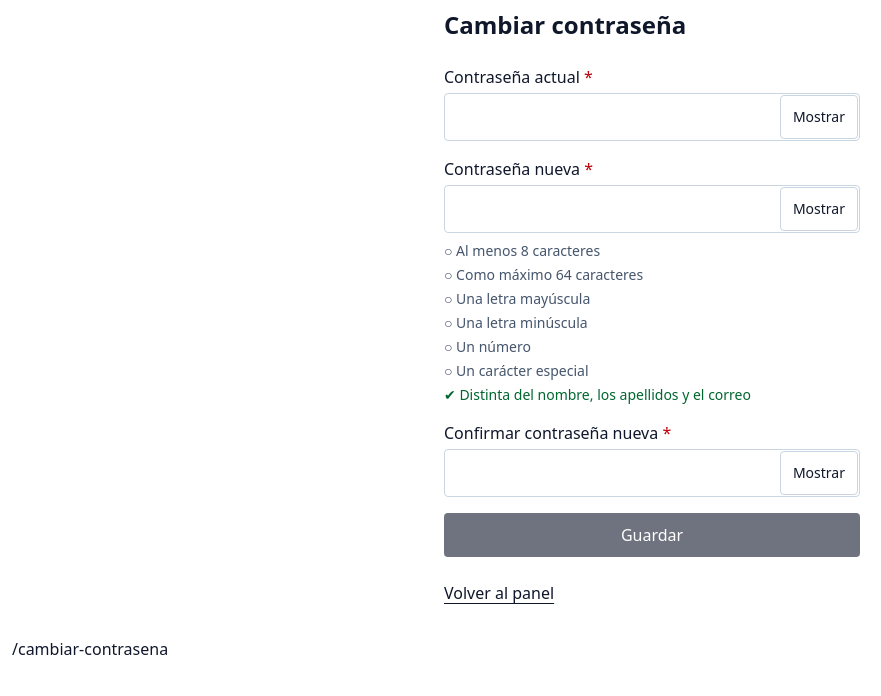
Test: ChangePasswordPage › muestra el requisito incumplido que devuelve el servidor (US7 esc. 3)
Step 1. Type "vieja" into the password field labelled "Contraseña actual *" → (652, 117), box [444,93,860,141]
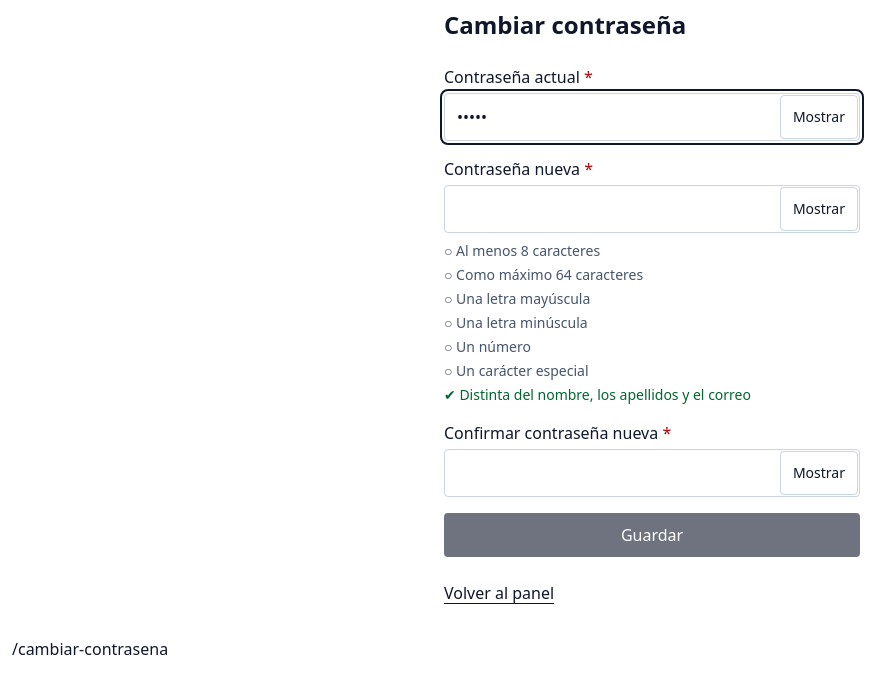
Step 2. Type "Nueva.2026" into the password field labelled "Contraseña nueva *" → (652, 209), box [444,185,860,233]
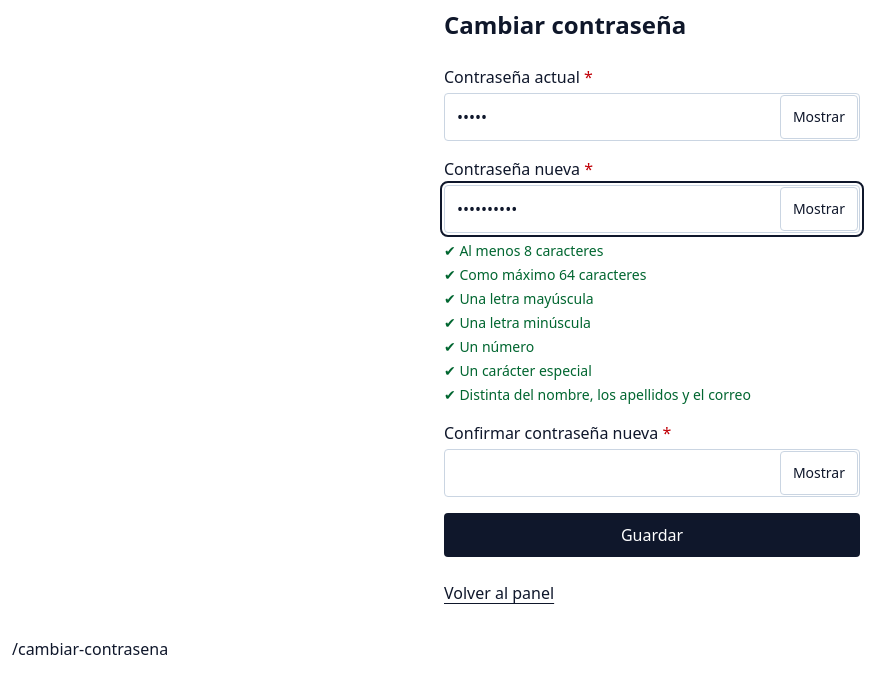
Step 3. Type "Nueva.2026" into the password field labelled "Confirmar contraseña nueva *" → (652, 473), box [444,449,860,497]
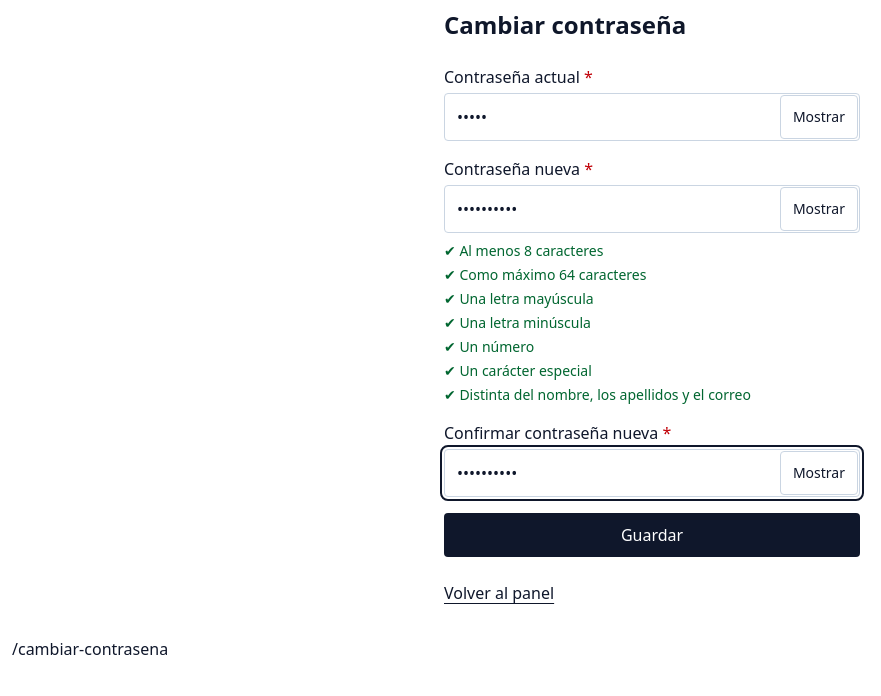
Step 4. Click the button "Guardar" → (652, 535), box [444,513,860,557]
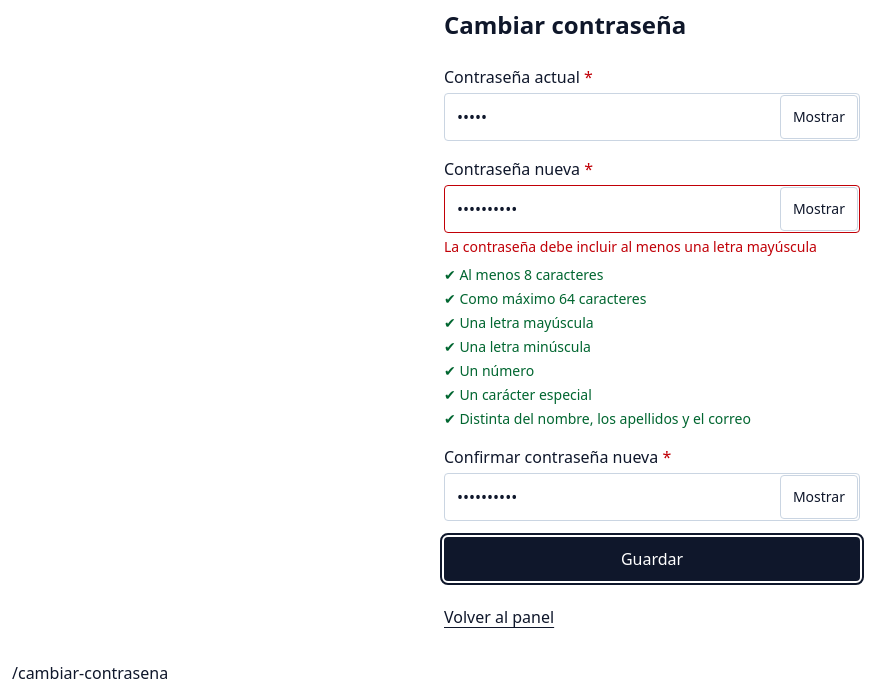
Result: the text "La contraseña debe incluir al menos una letra mayúscula" is shown at [444,237,860,257]
